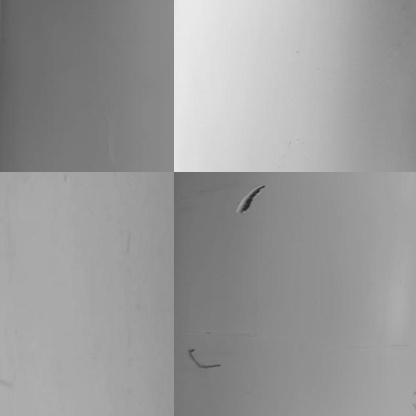fengxi: (235, 180, 266, 219), (185, 346, 219, 370)
